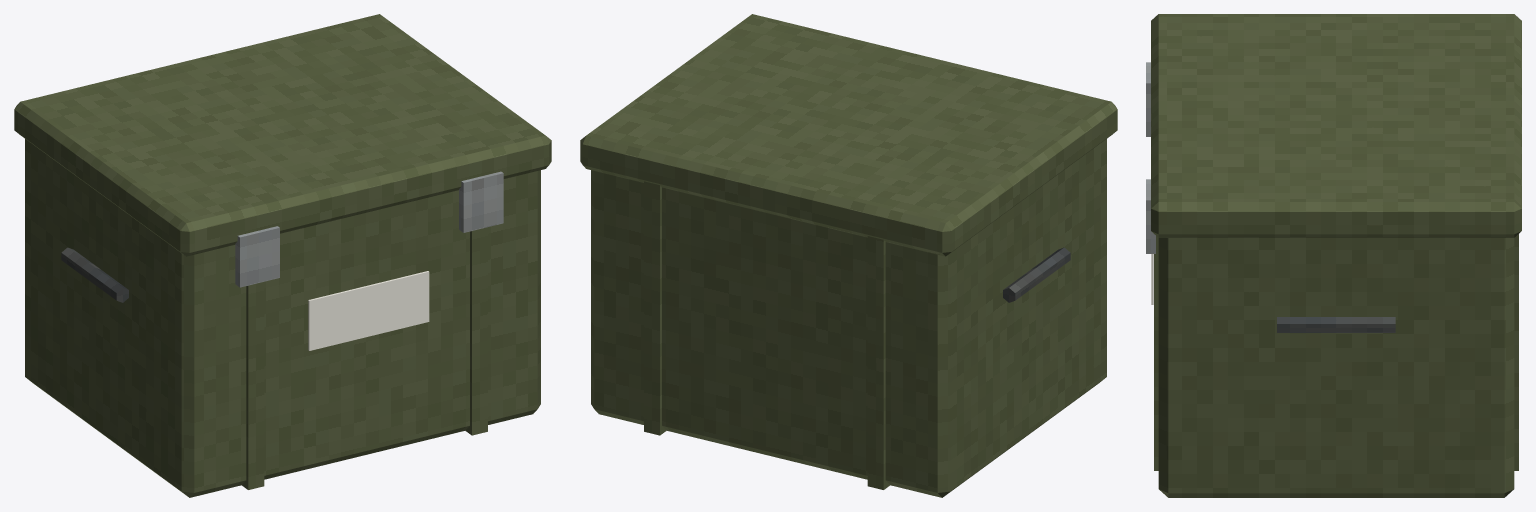
The model's file is crate_metal.glb.
3 views of the same model, side by side, from view 1: azimuth 30°, elevation 25°; view 2: azimuth 150°, elevation 25°; view 3: azimuth 270°, elevation 25° (orthographic). The views are drawn at different scales.
Parts seen in each view (by area): view 1: body; view 2: body; view 3: body.
Part boxes in pixels (x1=…): body: x1=14, y1=14, x2=551, y2=497; body: x1=580, y1=14, x2=1117, y2=497; body: x1=1146, y1=14, x2=1521, y2=497.
Size of the model in its own units: 0.9712 by 0.67 by 0.76.
4 materials, 3 textured.
